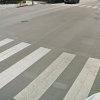Crosswalk: (4, 31, 99, 96)
